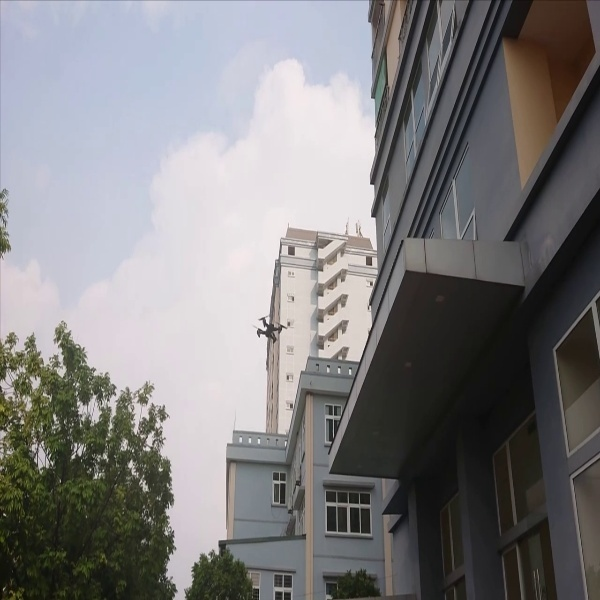drone: (249, 313, 292, 348)
